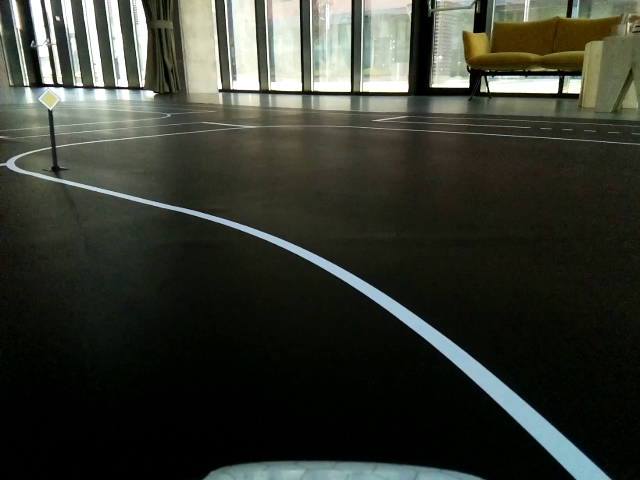priority: (37, 89, 60, 109)
